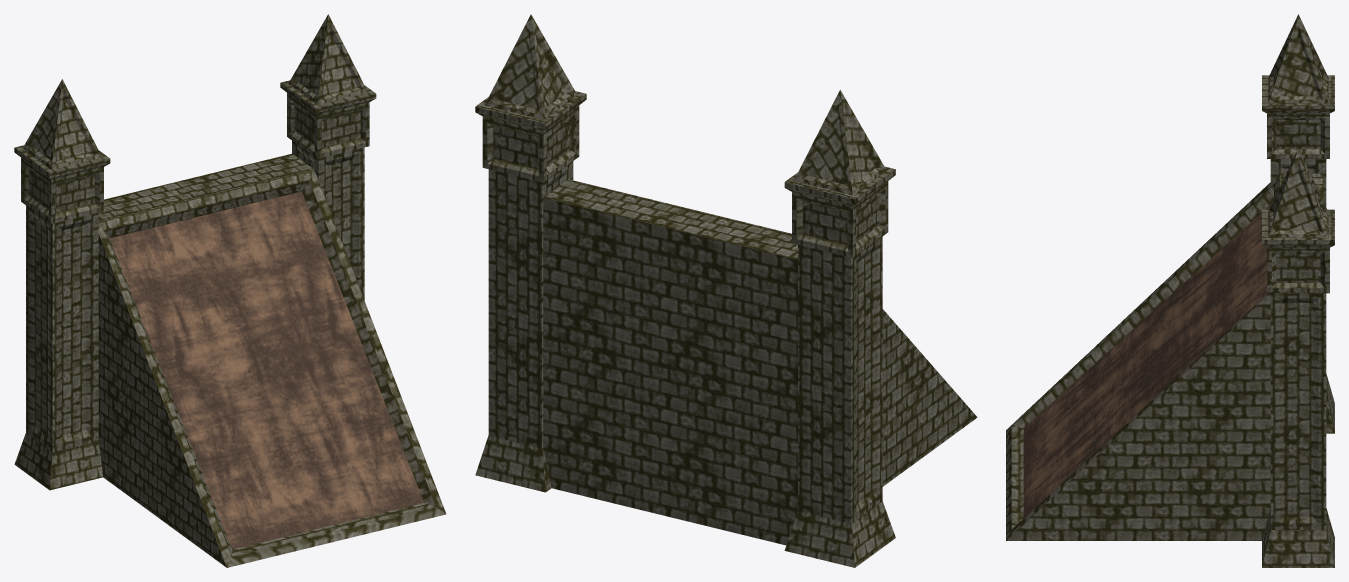
The model's file is RA-wall.fbx.
3 renders of one model, left to right at view 1: azimuth 30°, elevation 25°; view 2: azimuth 150°, elevation 25°; view 3: azimuth 270°, elevation 25°, orthographic. The views are drawn at different scales.
Parts seen in each view (by area): view 1: wall, col; view 2: wall, col; view 3: wall, col.
Part boxes in pixels (x1,y1,x2,y2): wall: (98, 153, 446, 567); col: (14, 14, 376, 490); wall: (543, 179, 977, 545); col: (475, 14, 895, 567); wall: (1006, 173, 1324, 540); col: (1262, 14, 1334, 567).
Bounding box in the file's own units: 755 × 864 × 637.
Materials: 2 (2 with a texture image).
